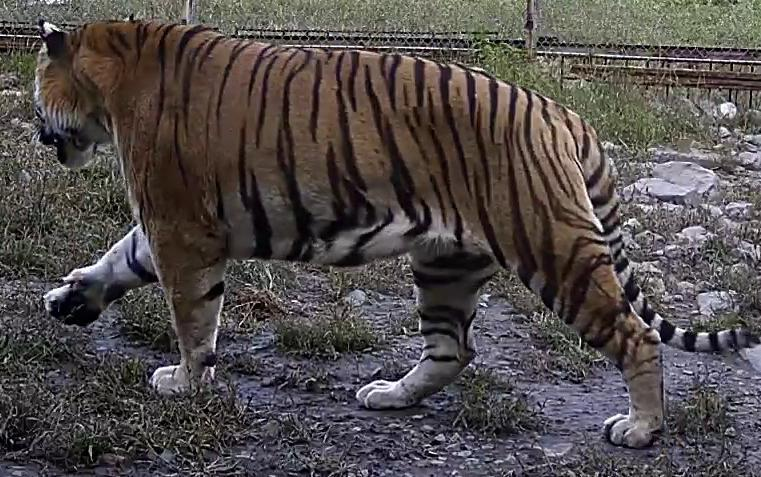tiger: (34, 20, 664, 447)
